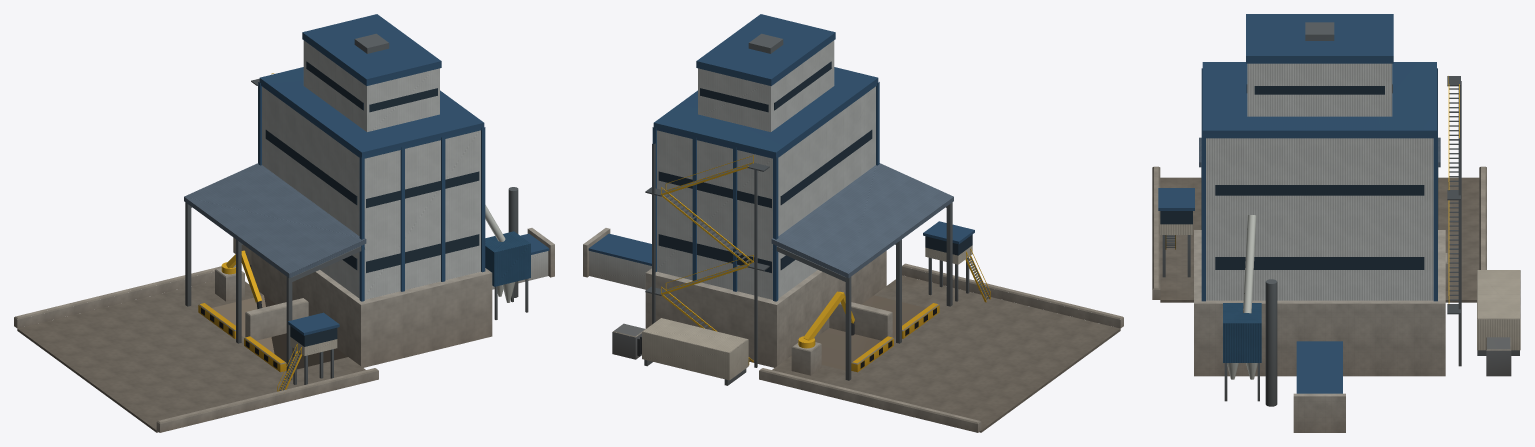
File: crusher_lod0.glb
The picture shows the model from 3 angles, left to right: view 1: azimuth 30°, elevation 25°; view 2: azimuth 150°, elevation 25°; view 3: azimuth 270°, elevation 25°; orthographic projection. The views are drawn at different scales.
Parts seen in each view (by area): view 1: crusher; view 2: crusher; view 3: crusher.
Boxes of the visible parts, bbox=[...] form: crusher: bbox=[14, 14, 554, 432]; crusher: bbox=[583, 14, 1123, 432]; crusher: bbox=[1152, 14, 1520, 432].
Bounding box in the file's own units: 62.5 × 42.2 × 38.05.
Materials: 17 (6 with a texture image).
